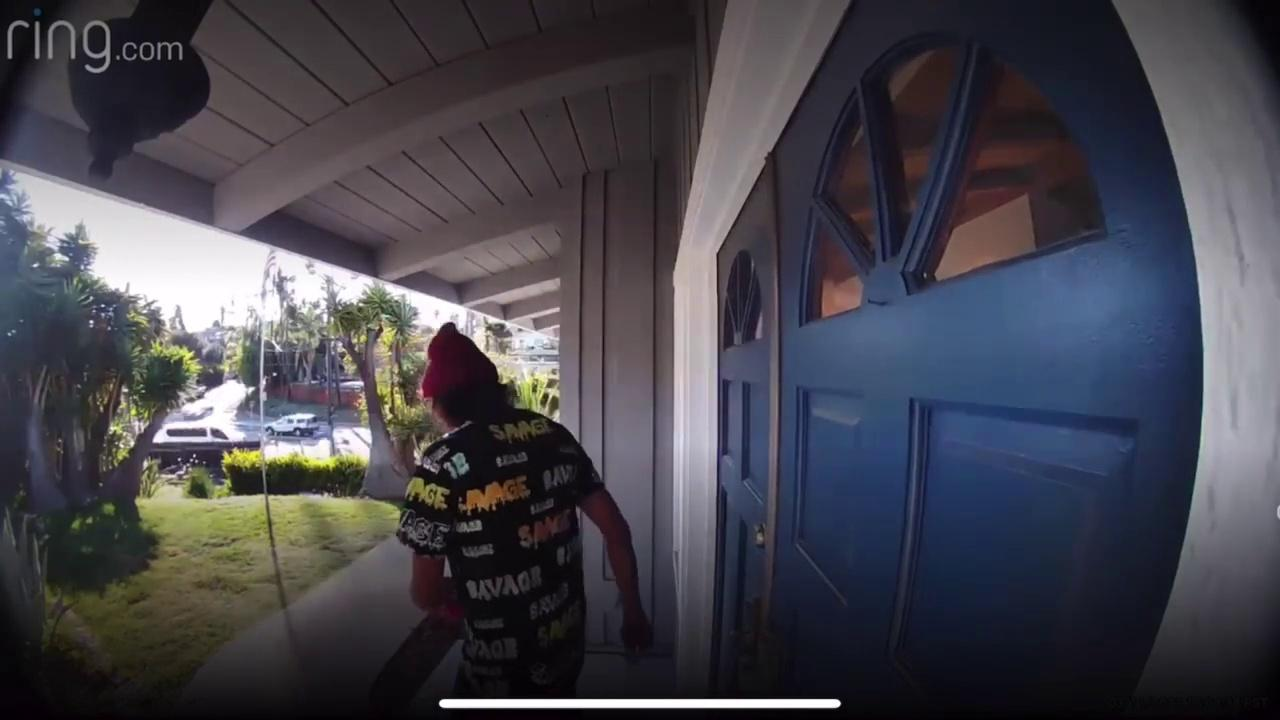suspicion: (372, 304, 678, 720)
